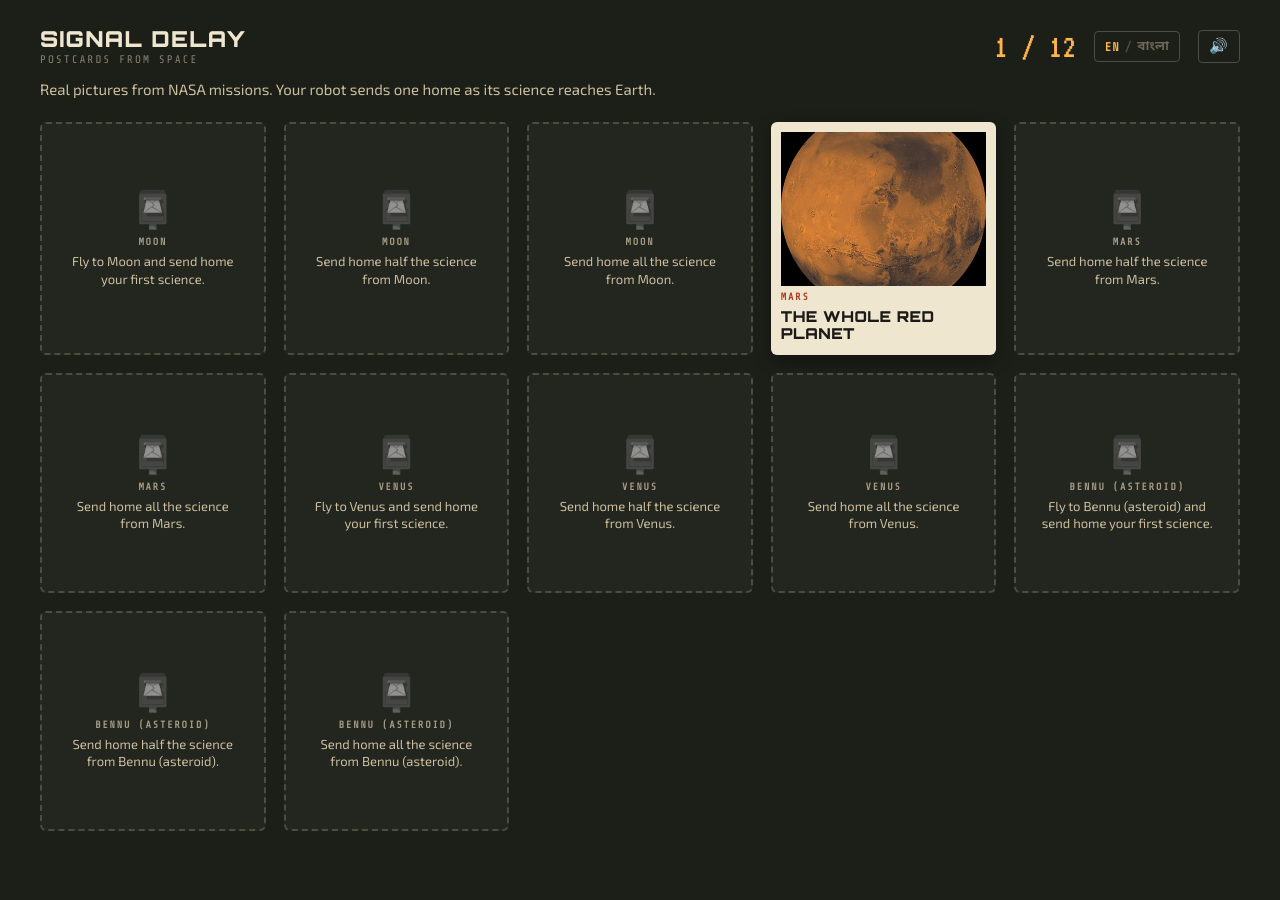
Test: the album › open cards show their picture; locked ones say how to earn them; a card opens full size with its credit
Click the button with aria-label "The whole red planet (Mars)". click: (884, 238)
box: x1=771 y1=122 x2=996 y2=355
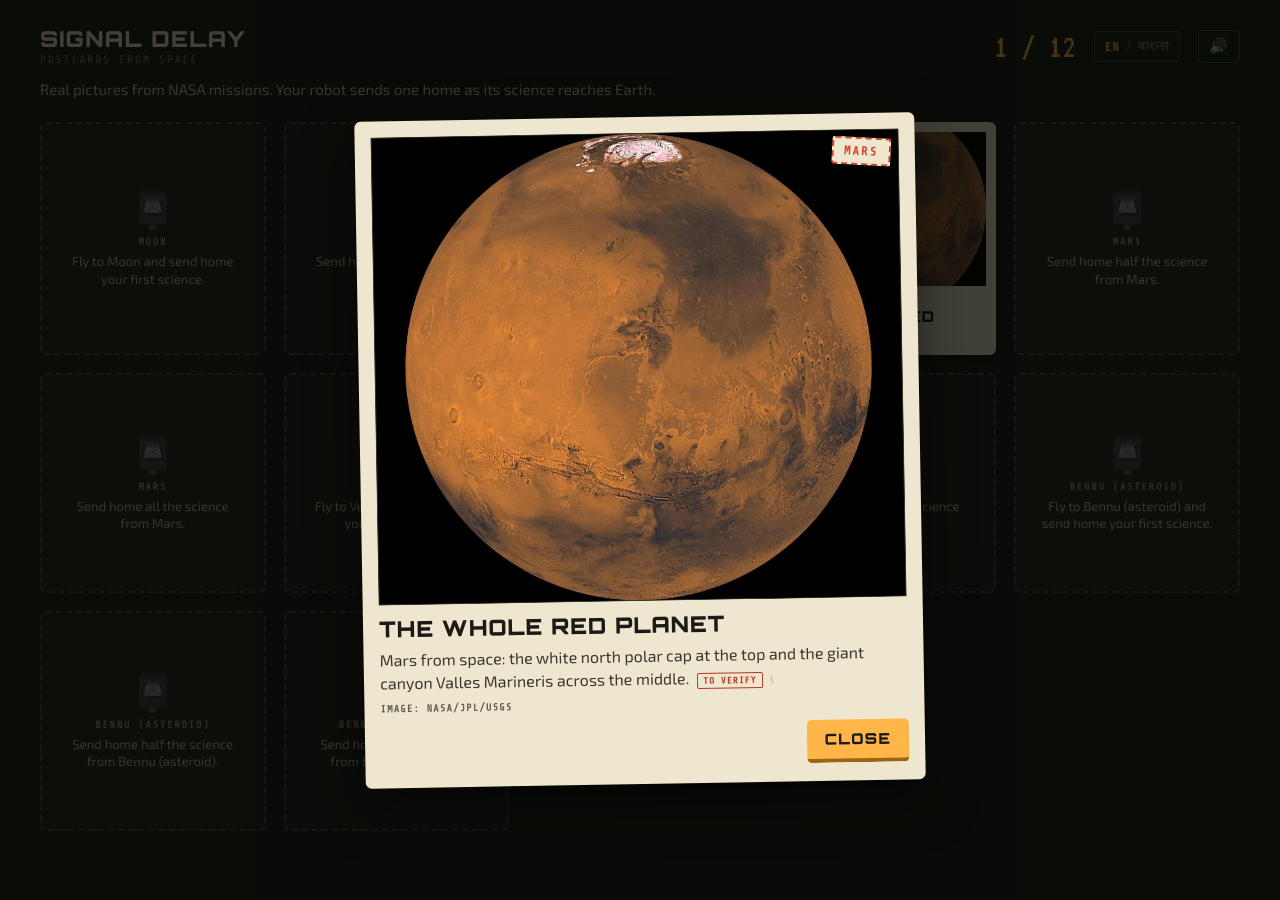
Expected: the dialog named "Postcard: The whole red planet" shows "TO VERIFY", x1=703 y1=674 x2=757 y2=685
